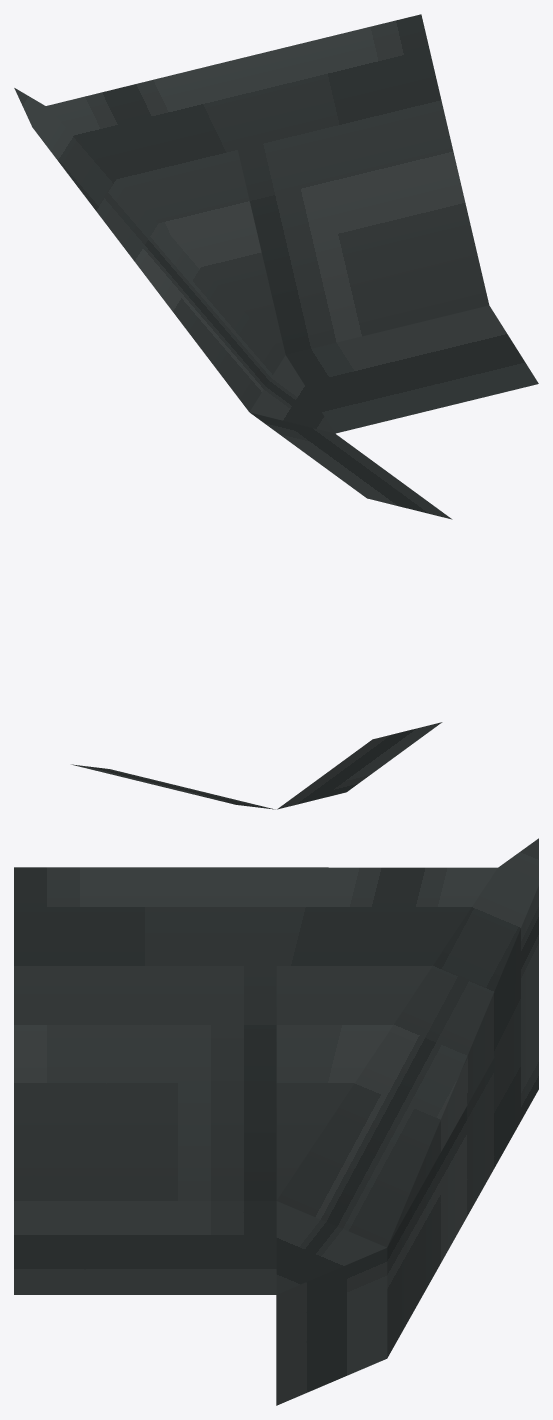
3 renders of one model, top to bottom at view 1: azimuth 30°, elevation 25°; view 2: azimuth 150°, elevation 25°; view 3: azimuth 270°, elevation 25°, orthographic. The views are drawn at different scales.
Size of the model in its own units: 1 by 0.7268 by 1.
Materials: 2 (2 with a texture image).
